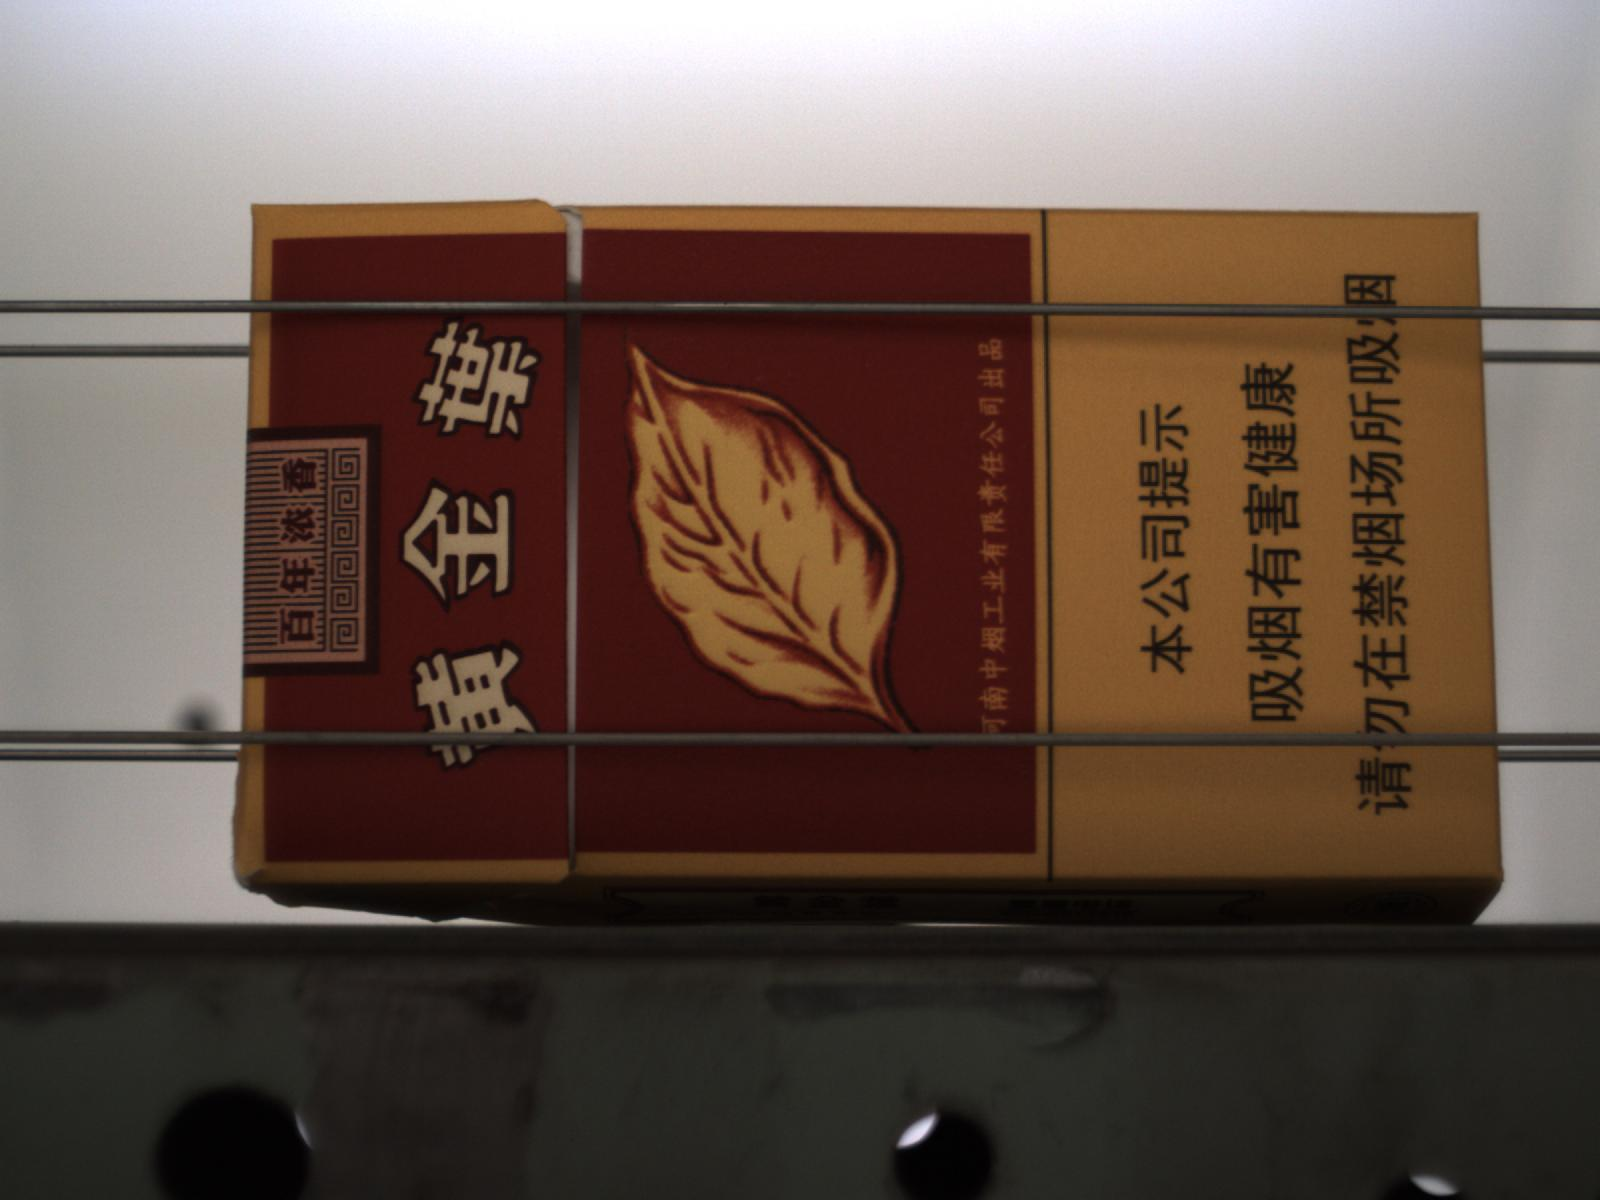boxDamage_front: (480, 866, 1500, 925)
lower_upwarp: (238, 879, 558, 923)
